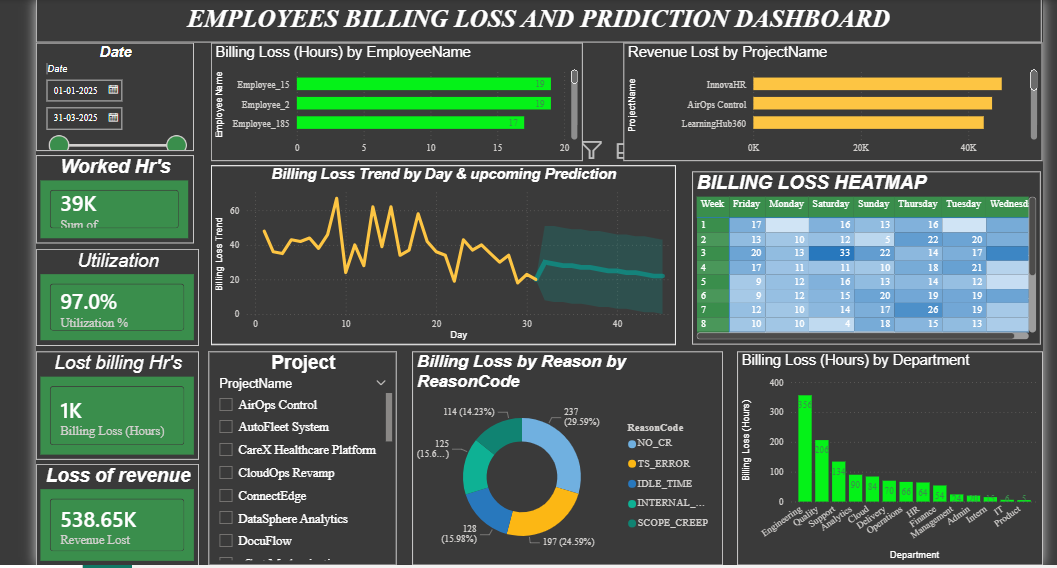

What the dashboard file says about the page in this screenshot:
{"tool":"powerbi","page":{"name":"TRADITIONAL DASHBAOARD","canvas":[1280,720],"ordinal":0},"visuals":[{"type":"textbox","box":[0,0,1279.4,54.8],"z":0},{"type":"cardVisual","title":"Worked Hr''s","fields":{"Data":["Sum(fact_timesheet.HoursWorked)"]},"box":[0,199.1,200.7,111.7],"z":1000},{"type":"cardVisual","title":"Lost billing Hr''s","fields":{"Data":["fact_timesheet.Billing Loss (Hours)"]},"box":[0,448.4,207.2,137.6],"z":2000},{"type":"cardVisual","title":"Loss of revenue","fields":{"Data":["fact_timesheet.Revenue Lost"]},"box":[0,590.8,207.2,129.5],"z":3000},{"type":"cardVisual","title":"Utilization","fields":{"Data":["fact_timesheet.Utilization %"]},"box":[0,317.3,207.2,123],"z":4000},{"type":"lineChart","title":"Billing Loss Trend by Day   &  upcoming Prediction","fields":{"Category":["fact_timesheet.Date.Variation.Date Hierarchy.Day"],"Y":["fact_timesheet.Billing Loss Trend"]},"box":[223.4,212.1,590.8,228.2],"z":5000},{"type":"clusteredBarChart","fields":{"Category":["Dim_project.ProjectName"],"Y":["fact_timesheet.Revenue Lost"]},"box":[747.8,55,532.6,150.5],"z":6000},{"type":"donutChart","title":"Billing Loss by Reason by ReasonCode","fields":{"Category":["fact_timesheet.ReasonCode"],"Y":["fact_timesheet.Loss by Reason"]},"box":[479.1,448.4,395,271.9],"z":7000},{"type":"clusteredBarChart","fields":{"Category":["Dim_employee.EmployeeName"],"Y":["fact_timesheet.Billing Loss (Hours)"]},"box":[223.4,55,472.7,150.5],"z":8000},{"type":"clusteredColumnChart","fields":{"Category":["Dim_employee.Department"],"Y":["fact_timesheet.Billing Loss (Hours)"]},"box":[891.9,448.4,388.5,271.9],"z":9000},{"type":"pivotTable","title":"BILLING LOSS HEATMAP","fields":{"Rows":["fact_timesheet.Week"],"Columns":["fact_timesheet.DayName"],"Values":["fact_timesheet.Billing Loss (Hours)"]},"box":[835.3,220.1,443.5,220.1],"z":10000},{"type":"slicer","title":"Date","fields":{"Values":["fact_timesheet.Date"]},"box":[0,55,200.7,137.6],"z":11000},{"type":"slicer","title":"Project ","fields":{"Values":["Dim_project.ProjectName"]},"box":[220.1,448.4,239.6,271.9],"z":12000}]}

Visuals, with their boxes in screenshot pixels (x1, y1, x2, y2):
textbox: 36,3,1029,45
"Worked Hr''s" cardVisual: 36,157,192,244
"Lost billing Hr''s" cardVisual: 36,351,197,458
"Loss of revenue" cardVisual: 36,462,197,562
"Utilization" cardVisual: 36,249,197,345
"Billing Loss Trend by Day   &  upcoming Prediction" lineChart: 209,167,668,345
clusteredBarChart - Dim_project.ProjectName x fact_timesheet.Revenue Lost: 617,45,1030,162
"Billing Loss by Reason by ReasonCode" donutChart: 408,351,715,562
clusteredBarChart - Dim_employee.EmployeeName x fact_timesheet.Billing Loss (Hours): 209,45,576,162
clusteredColumnChart - Dim_employee.Department x fact_timesheet.Billing Loss (Hours): 728,351,1030,562
"BILLING LOSS HEATMAP" pivotTable: 685,174,1029,345
"Date" slicer: 36,45,192,152
"Project " slicer: 207,351,393,562
